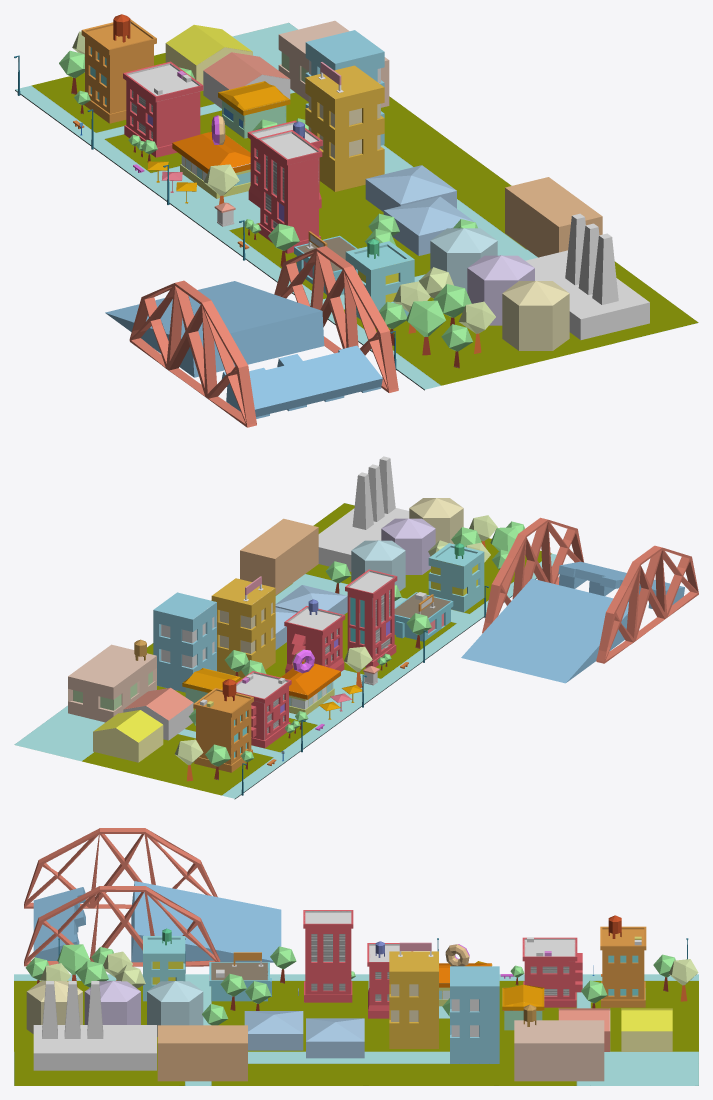
The model's file is city_built_4.glb.
The picture shows the model from 3 angles, top to bottom: view 1: azimuth 30°, elevation 25°; view 2: azimuth 150°, elevation 25°; view 3: azimuth 270°, elevation 25°; orthographic projection. The views are drawn at different scales.
Parts seen in each view (by area): view 1: ground, bridge.018, bridge.016, second_plan building, bridge.001, bridge.014, building.003, building, factory building, building.001, Cylinder building.002, factory building.006 (+23 smaller); view 2: ground, bridge.016, bridge.018, second_plan building.001, third_plan building, second_plan building, bridge.001, factory building, building.003, building.001, building.005, building.002 (+17 smaller); view 3: ground, bridge.016, third_plan building, factory building, factory building.006, second_plan building.001, second_plan building, building.003, bridge.001, bridge.018, building, building.001 (+27 smaller).
Part boxes in pixels (box(x1,y1,x2,y2)): ground: box(15, 22, 698, 390); bridge.018: box(129, 280, 256, 427); bridge.016: box(105, 281, 324, 377); second_plan building: box(305, 65, 384, 191); bridge.001: box(274, 246, 398, 392); bridge.014: box(221, 345, 382, 418); building.003: box(257, 130, 322, 253); building: box(123, 61, 203, 157); factory building: box(505, 177, 602, 257); building.001: box(81, 19, 156, 123); Cylinder building.002: box(502, 281, 569, 350); factory building.006: box(525, 250, 649, 339); ground: box(14, 503, 556, 799); bridge.016: box(461, 578, 628, 683); bridge.018: box(596, 545, 698, 663); second_plan building.001: box(153, 592, 216, 692); third_plan building: box(68, 644, 156, 722); second_plan building: box(211, 578, 275, 677); bridge.001: box(482, 517, 583, 633); factory building: box(240, 518, 318, 594); building.003: box(345, 569, 397, 667); building.001: box(193, 688, 253, 772); building.005: box(428, 543, 484, 612); building.002: box(284, 606, 345, 673); ground: box(14, 974, 698, 1085); bridge.016: box(131, 881, 281, 962); third_plan building: box(514, 1020, 604, 1081); factory building: box(157, 1025, 247, 1081); factory building.006: box(33, 1025, 156, 1070); second_plan building.001: box(450, 966, 499, 1063); second_plan building: box(389, 951, 438, 1048); building.003: box(303, 910, 353, 1002); bridge.001: box(24, 886, 220, 966); bridge.018: box(24, 828, 217, 908); building: box(522, 937, 582, 1007); building.001: box(600, 926, 646, 1007).
Size of the model in its own units: 20.39 by 4.96 by 32.49.
40 materials, 21 textured.
